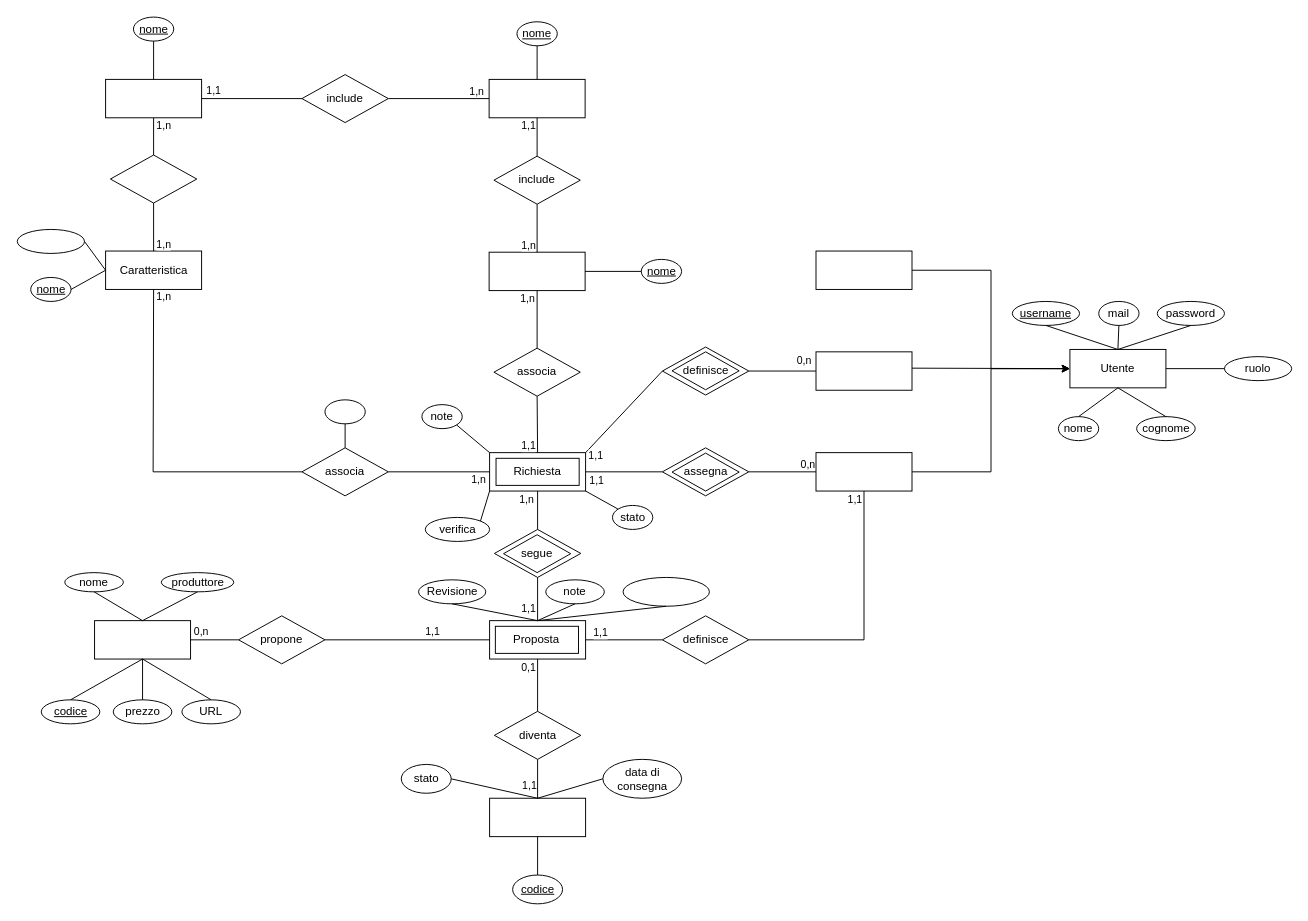
This 1308x921 diagram has some shape labels left out. Here are the shapes that lost their labels. From the top down, the box of each, then its label:
(105, 78, 202, 118): Micro-Categoria
(488, 78, 585, 118): Sotto-Categoria
(109, 154, 197, 203): contiene
(16, 228, 84, 253): descrizione
(488, 251, 585, 291): Categoria
(815, 250, 912, 289): Amministratore
(815, 351, 912, 390): Ordinante
(324, 399, 365, 424): valore
(815, 452, 912, 491): Tecnico
(622, 576, 709, 606): rev_motivazione
(94, 620, 191, 659): Prodotto
(489, 797, 586, 837): Ordine
